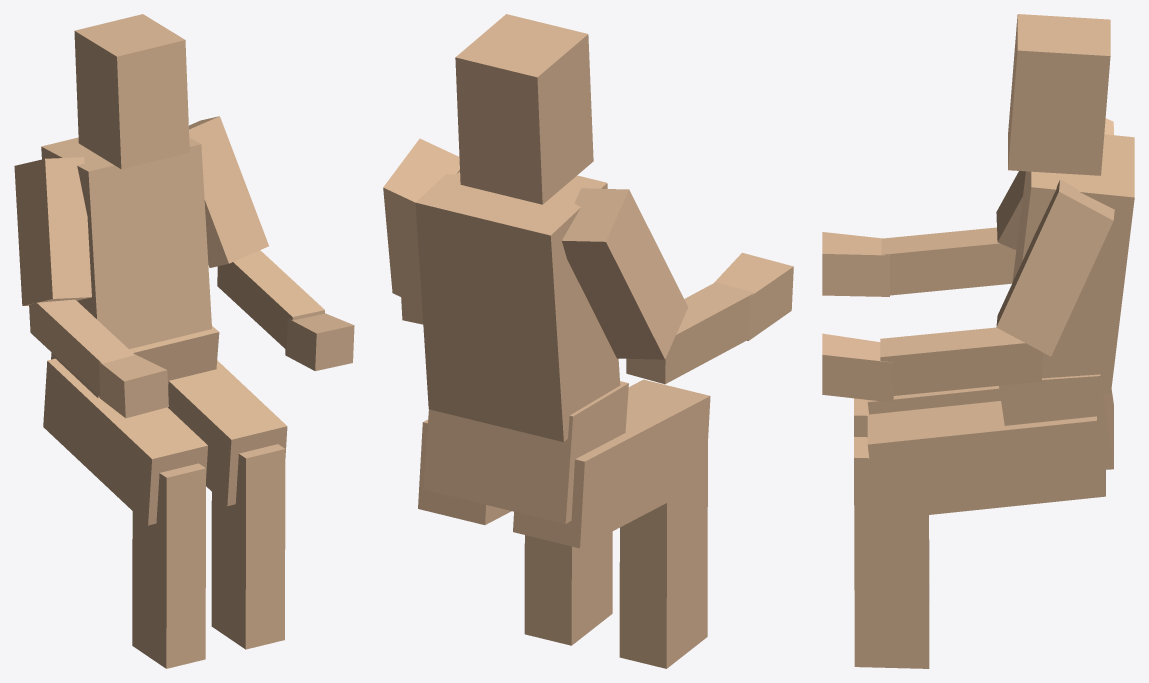
File: King_01.glb
3 renders of one model, left to right at view 1: azimuth 30°, elevation 25°; view 2: azimuth 150°, elevation 25°; view 3: azimuth 270°, elevation 25°, orthographic. The views are drawn at different scales.
Visible parts, largest first — view 1: King_01; view 2: King_01; view 3: King_01.
Part boxes in pixels (bbox=[...]): King_01: bbox=[14, 14, 354, 668]; King_01: bbox=[383, 14, 793, 668]; King_01: bbox=[822, 14, 1134, 668].
Bounding box in the file's own units: 1.07 × 2.45 × 1.15.
